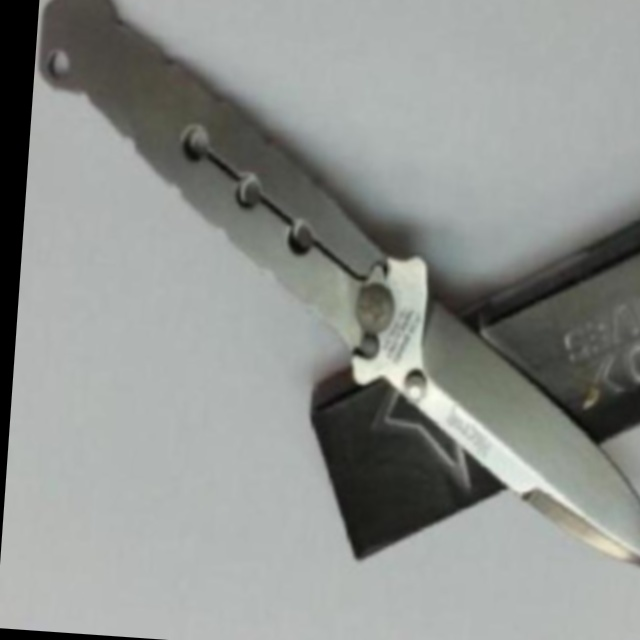Sharp-Object: (4, 0, 640, 570)
